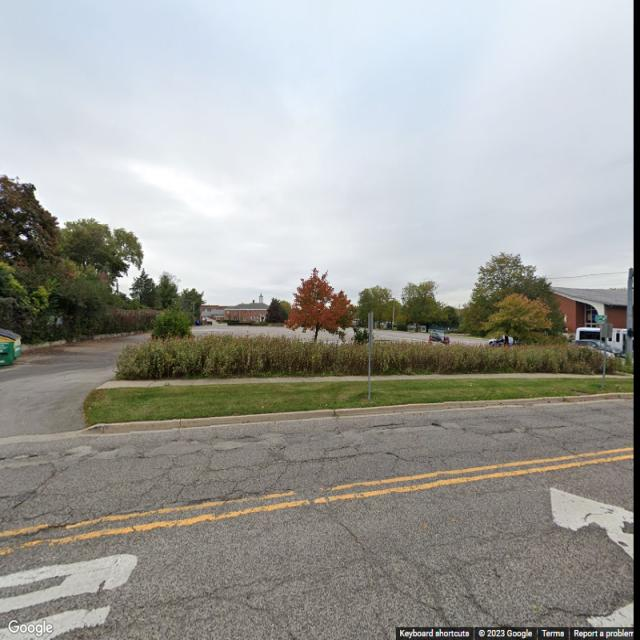House: (548, 287, 634, 332), (200, 293, 268, 323)
